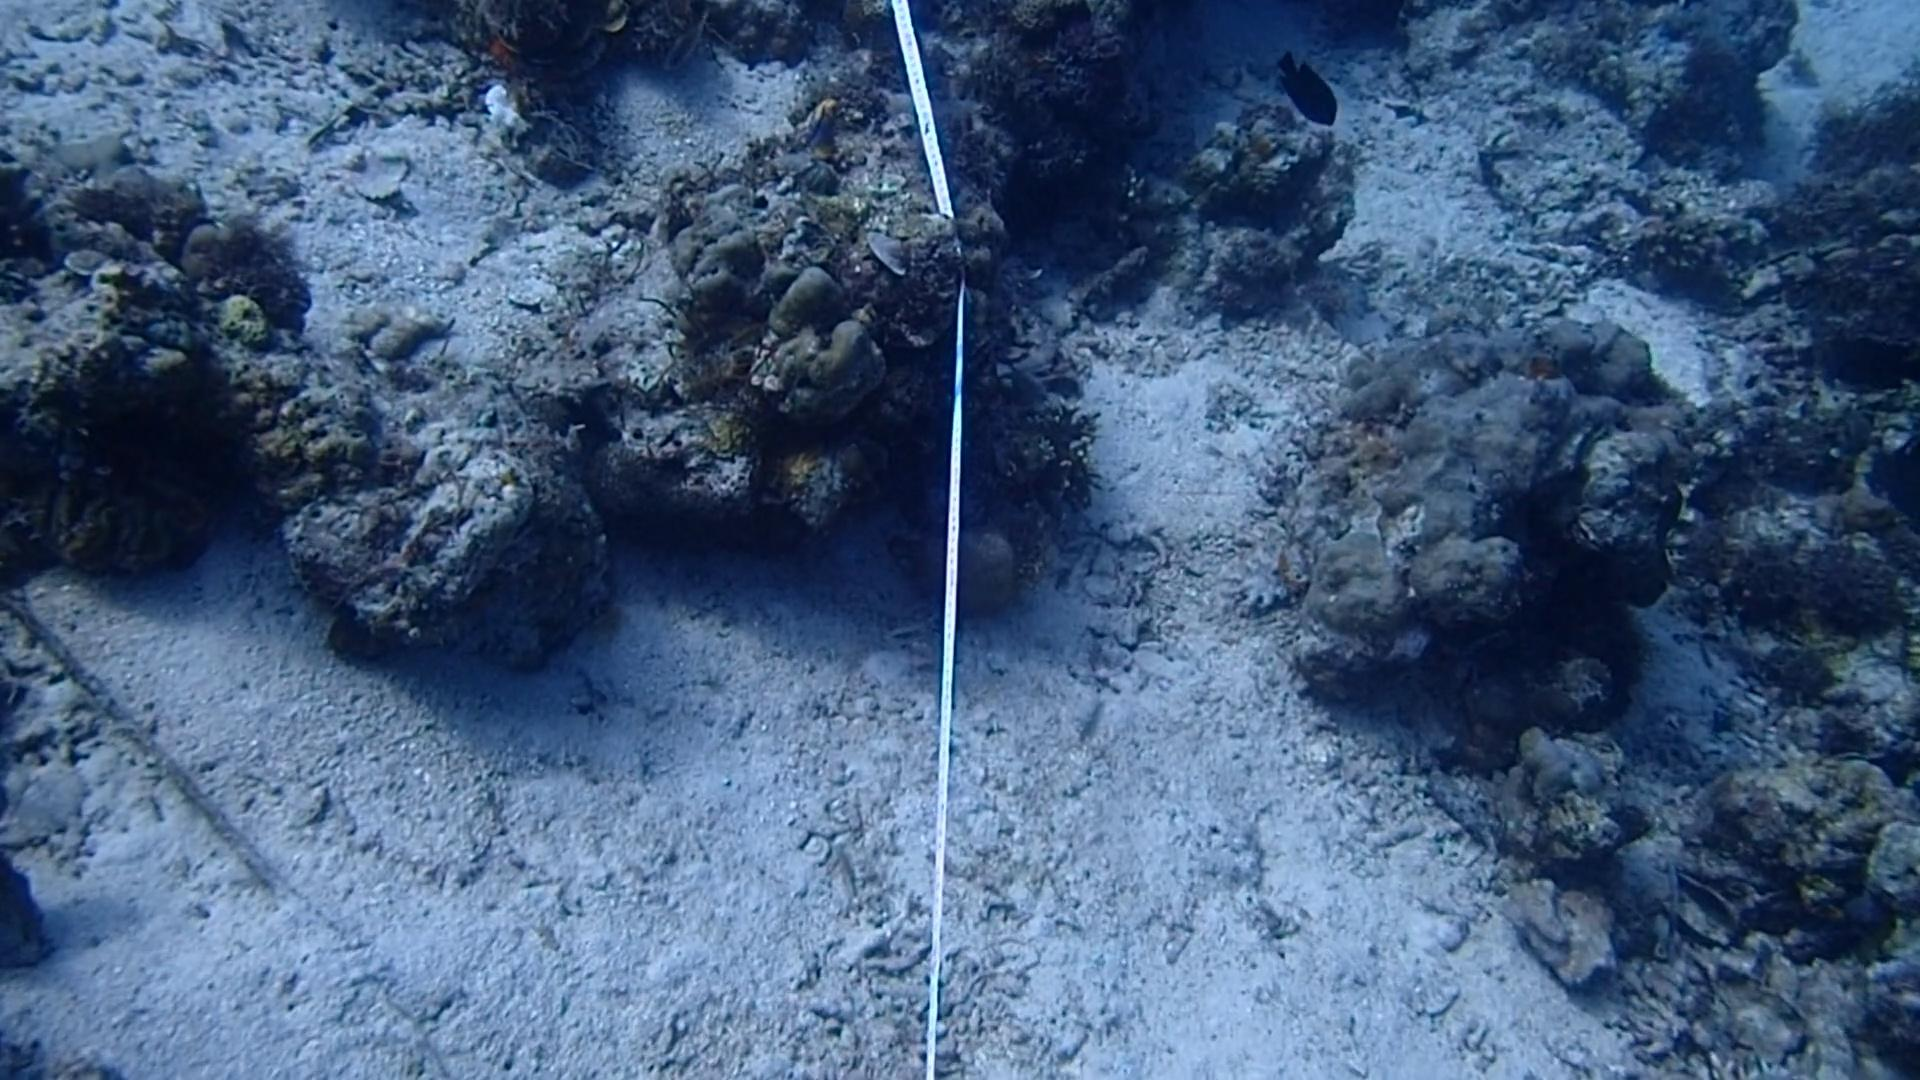Dark Fish: (1267, 37, 1346, 142), (1820, 327, 1920, 393)
Light Fish: (655, 3, 713, 78)
